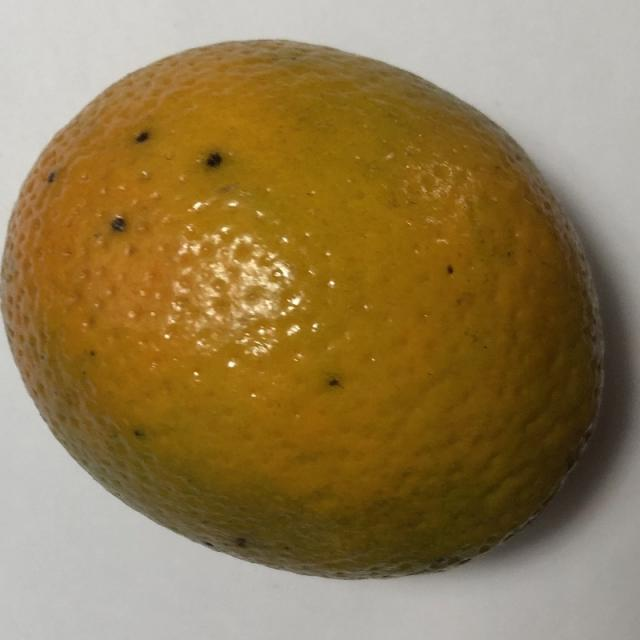blackspot: (1, 8, 620, 605)
